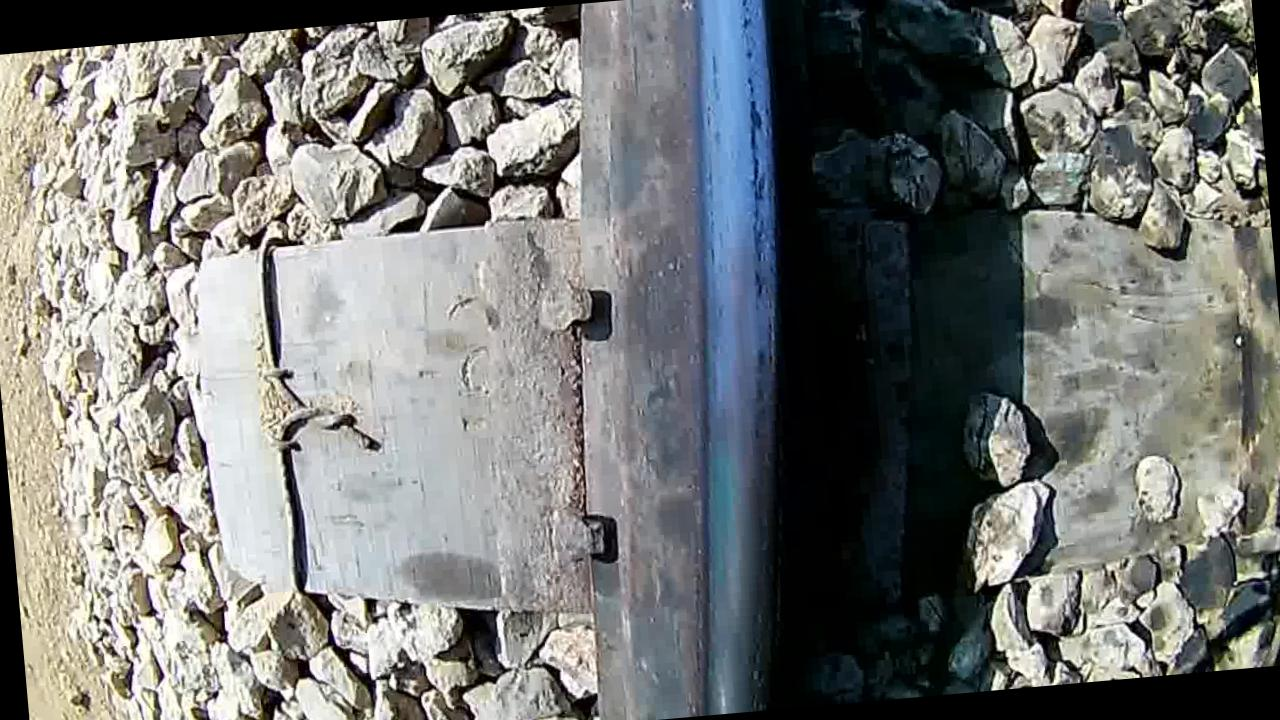crack: (583, 0, 828, 720)
